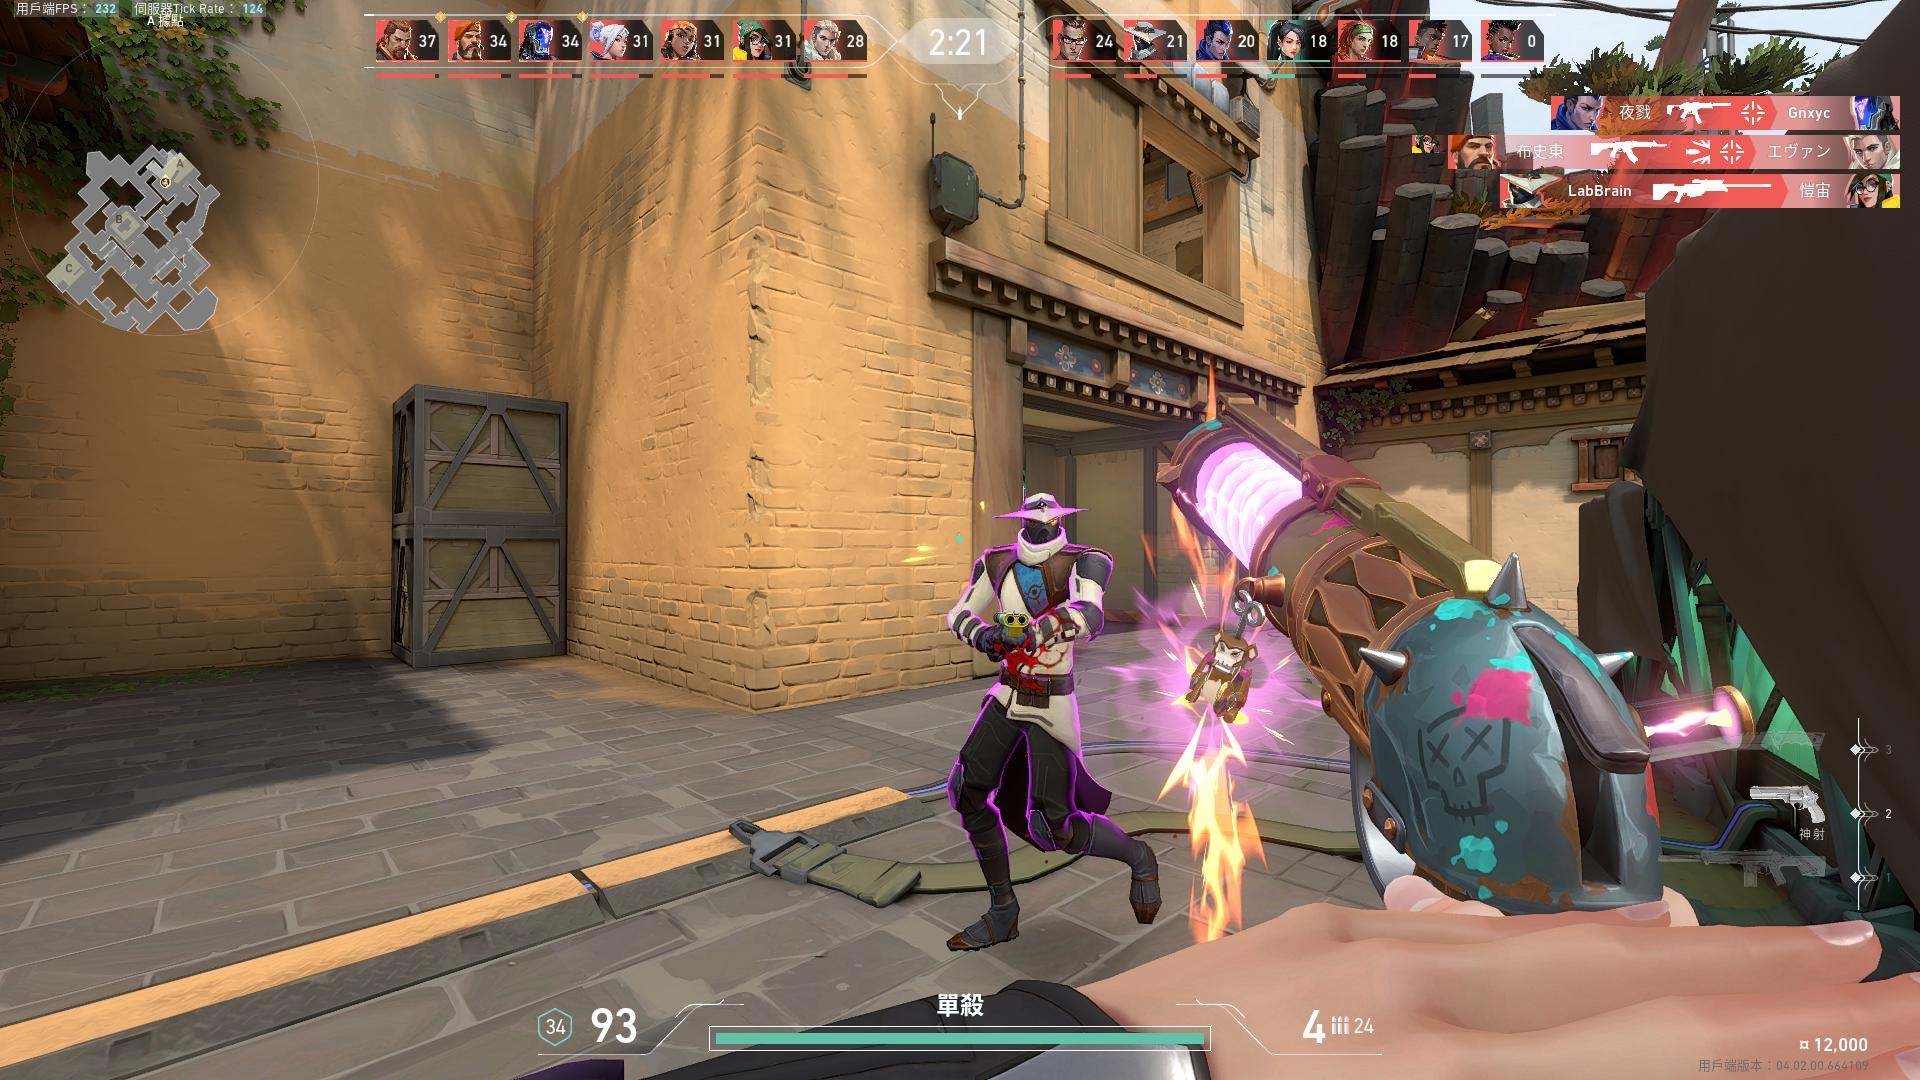enemyBody: (1005, 558, 1073, 699)
enemyHead: (1029, 517, 1058, 539)
